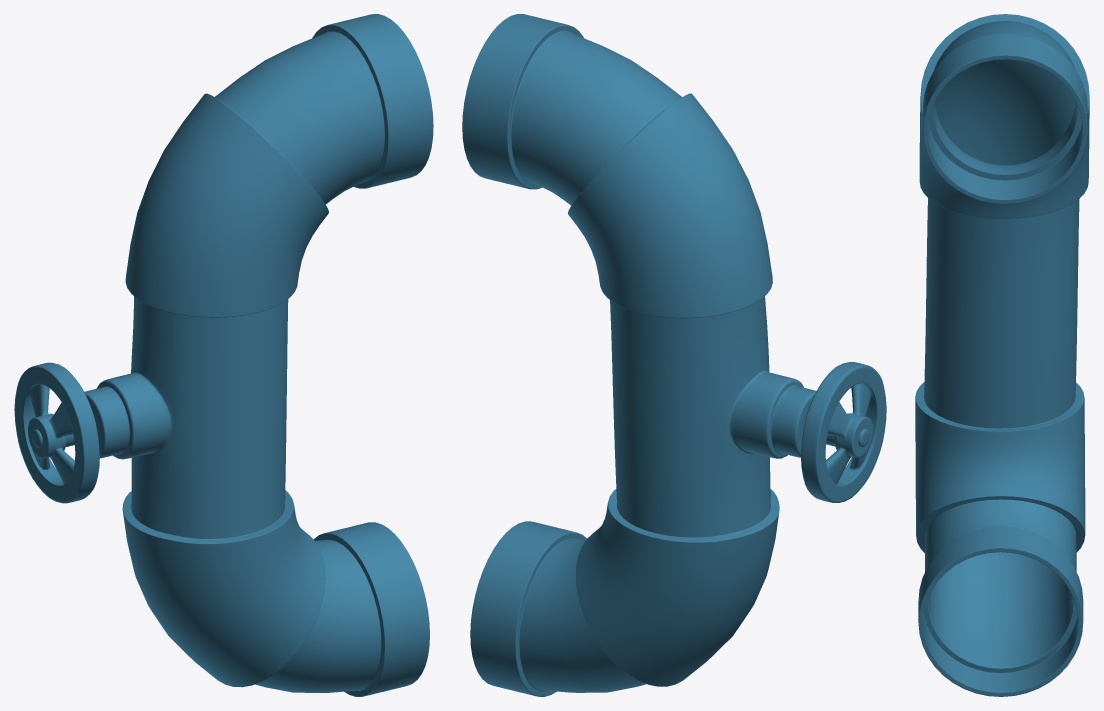
File: ValvulaAzul.fbx
3 views of the same model, side by side, from view 1: azimuth 30°, elevation 25°; view 2: azimuth 150°, elevation 25°; view 3: azimuth 270°, elevation 25° (orthographic). The views are drawn at different scales.
Visible parts, largest first — view 1: TuberiaPared, Manivela; view 2: TuberiaPared, Manivela; view 3: TuberiaPared.
Part boxes in pixels (<box>): TuberiaPared: <box>65,14,433,696</box>; Manivela: <box>14,362,99,503</box>; TuberiaPared: <box>462,14,835,696</box>; Manivela: <box>801,362,886,502</box>; TuberiaPared: <box>915,14,1089,696</box>.
Bounding box in the file's own units: 2.64 × 4.64 × 1.14.
